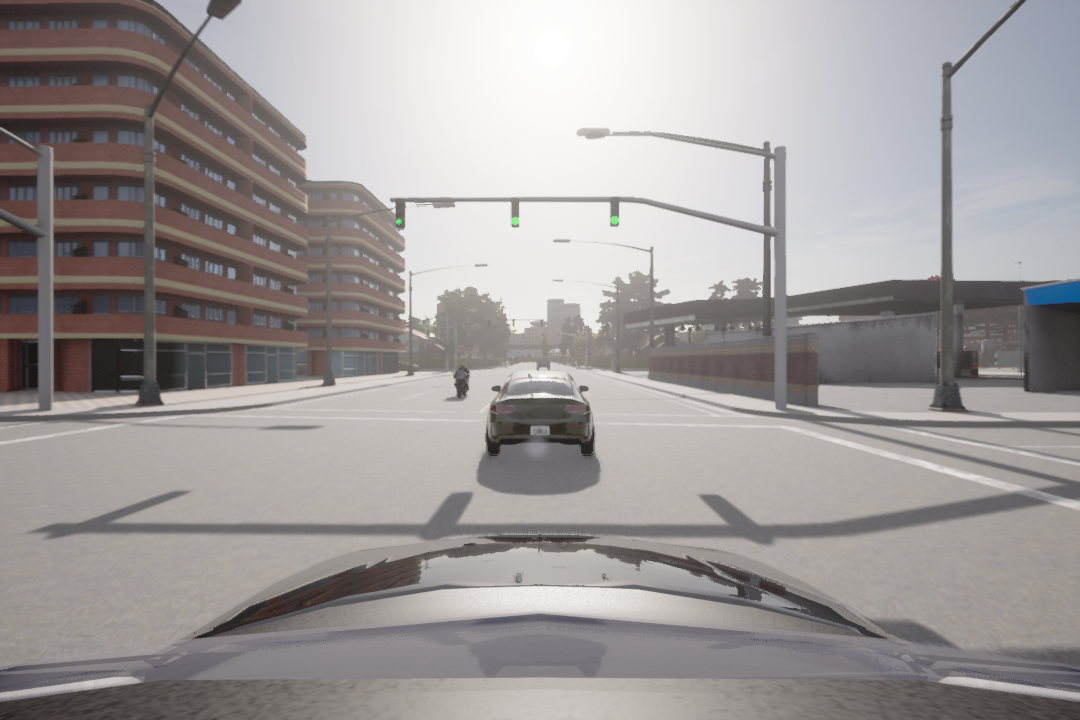TrafficLight: (394, 200, 410, 231), (607, 195, 621, 228), (509, 194, 521, 229)
